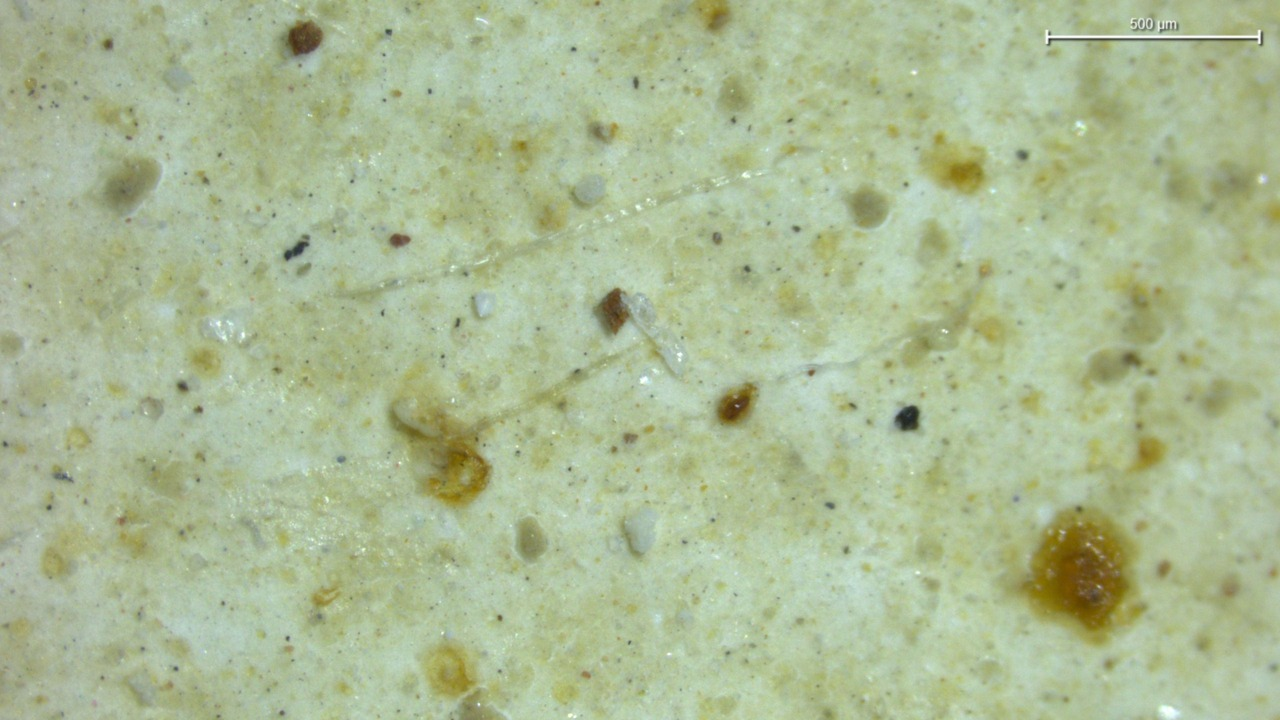microplastic_fragment: (625, 508, 658, 554), (573, 175, 605, 205), (472, 290, 495, 317)
